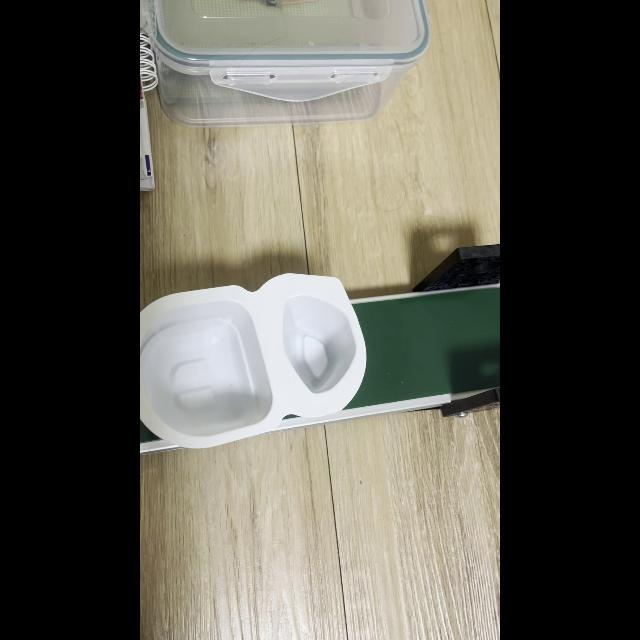clean: (142, 274, 366, 446)
